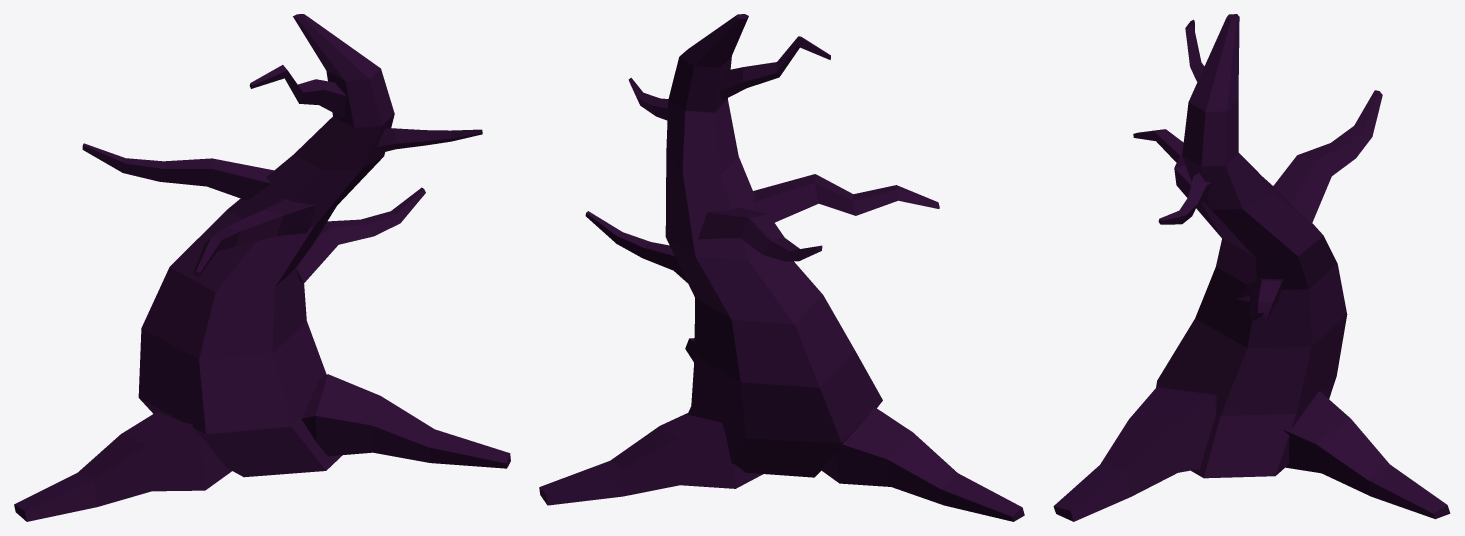
Rendered from BlackTree2.fbx.
The picture shows the model from 3 angles, left to right: view 1: azimuth 30°, elevation 25°; view 2: azimuth 150°, elevation 25°; view 3: azimuth 270°, elevation 25°; orthographic projection. The views are drawn at different scales.
Visible parts, largest first — view 1: DarkTree3; view 2: DarkTree3; view 3: DarkTree3.
Part boxes in pixels (x1,y1,x2,y2): DarkTree3: [14, 14, 510, 521]; DarkTree3: [539, 14, 1024, 521]; DarkTree3: [1053, 14, 1450, 521].
Size of the model in its own units: 636 by 620 by 495.
